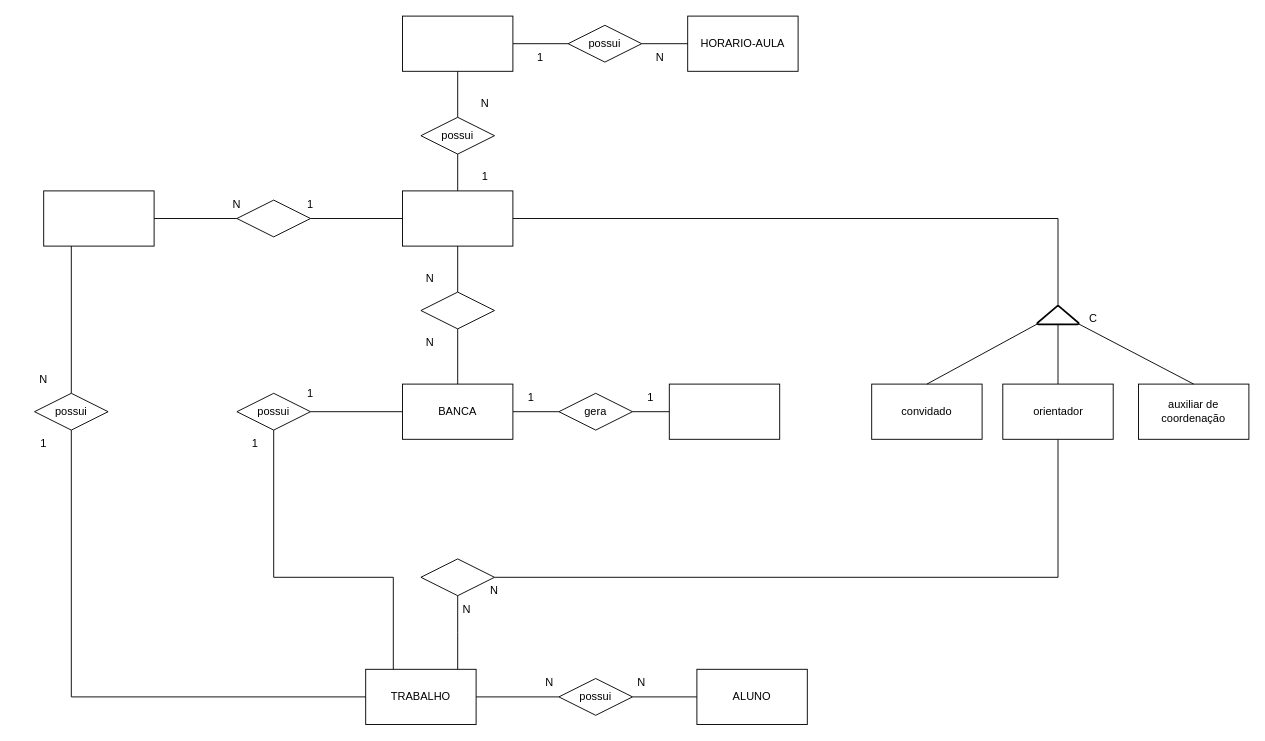
Some shapes in this 1265 by 741 pixel diagram are drawn without their labels. Each missing label, with the box of its shape:
AVALIACAO: (43, 190, 154, 246)
CERTIFICADO: (668, 383, 780, 439)
compõe: (420, 291, 494, 329)
DIA-AULA: (402, 15, 513, 71)
orienta: (420, 558, 494, 596)
PROFESSOR: (402, 190, 513, 246)
realiza: (236, 199, 310, 237)
